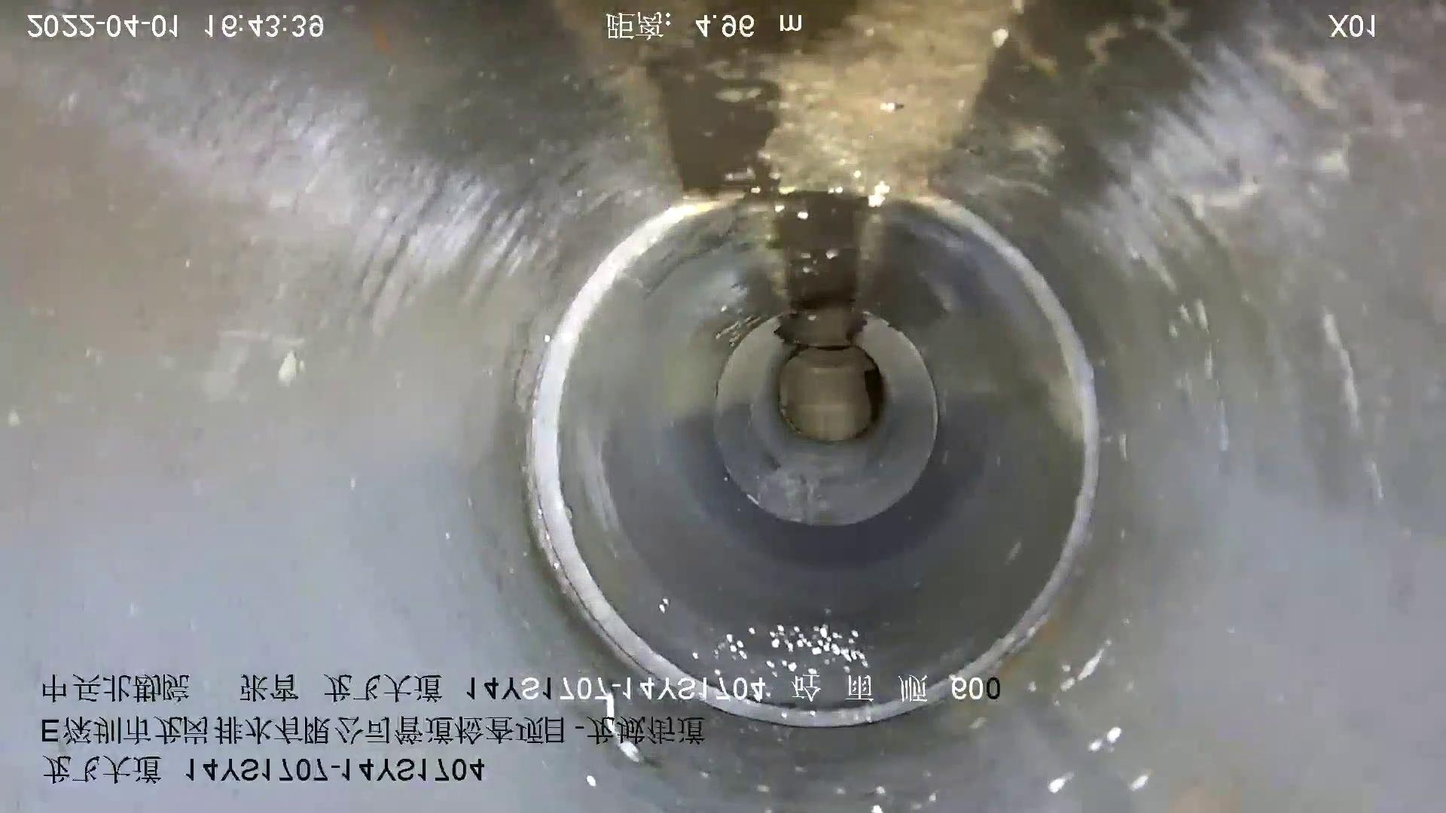CJ: (759, 1, 1023, 205), (604, 1, 706, 44)
CKTJ: (525, 202, 950, 726), (928, 204, 1098, 676)
